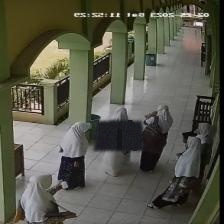Cadar_Niqab: (94, 106, 144, 150)
